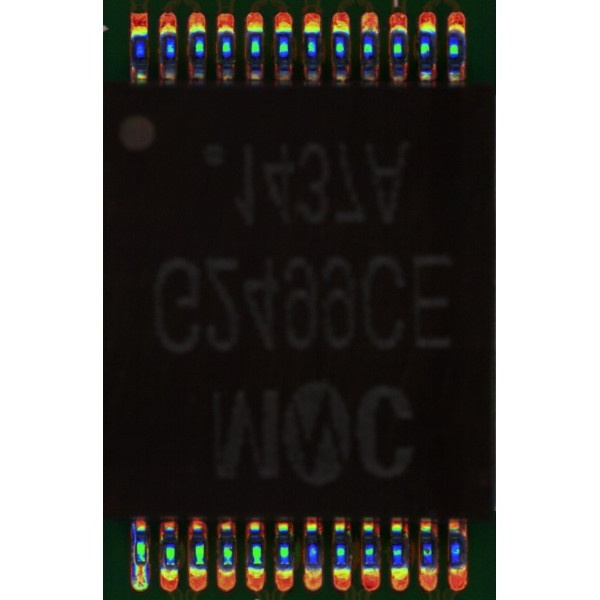Bad_podu: (136, 554, 146, 576)
Bad_qiaojiao: (129, 524, 135, 565)
